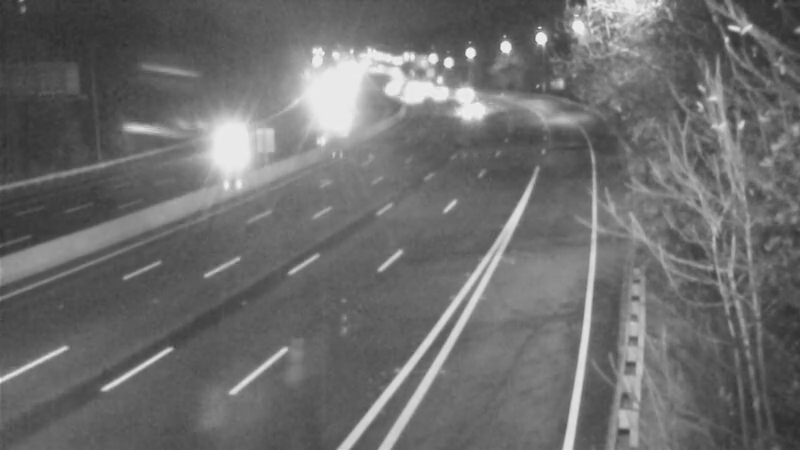vehicle: (195, 115, 275, 195), (440, 85, 490, 135)
